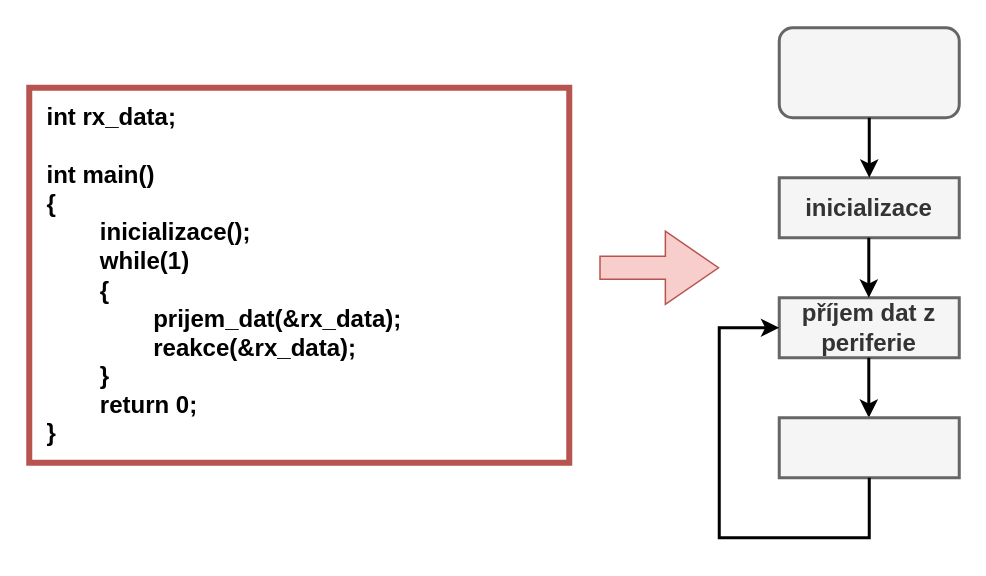
The diagram is 986 pixels wide and 576 high, and some of its shapes have lost their labels. Each missing label, with the centre of its shape:
"reakce" goes at (x=868, y=447).
"start" goes at (x=868, y=72).
